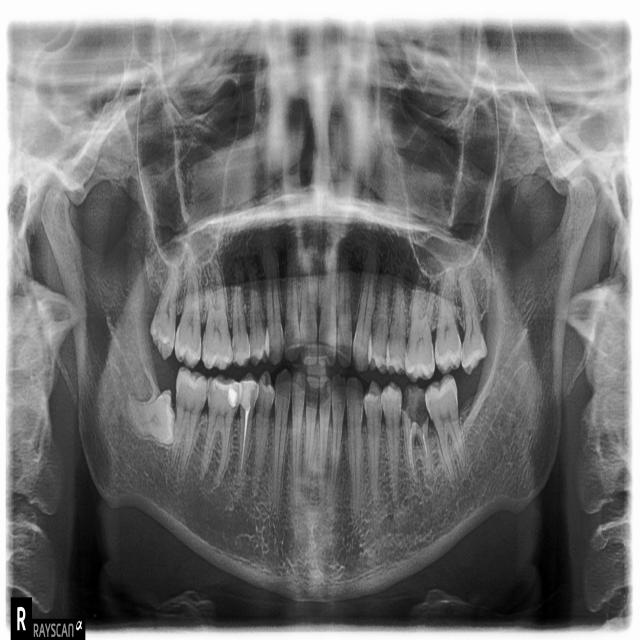mandibula: (40, 175, 598, 603)
